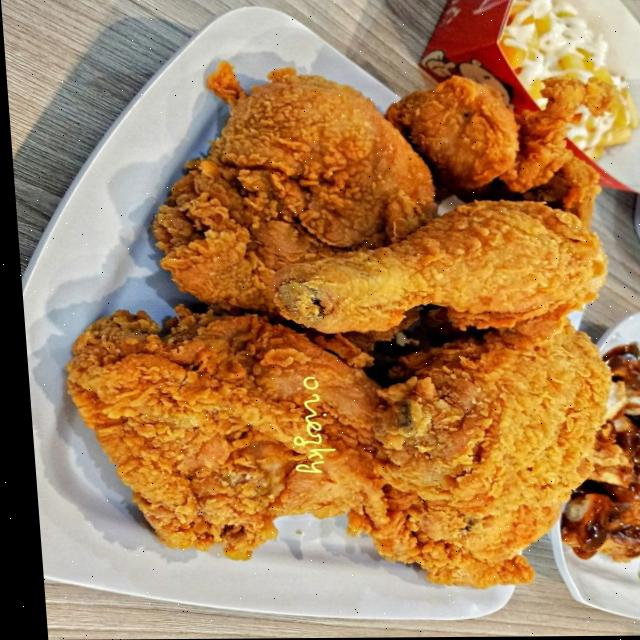Wet: (264, 191, 605, 343)
